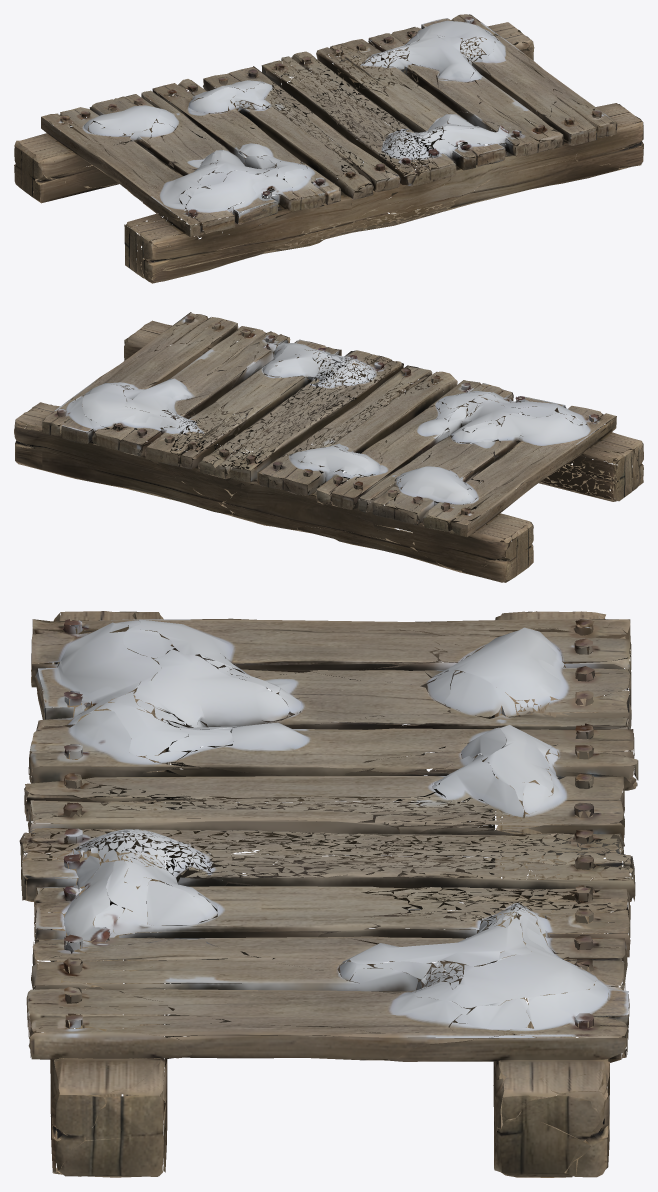
File: PlankBridge.fbx
3 views of the same model, one above another, from view 1: azimuth 30°, elevation 25°; view 2: azimuth 150°, elevation 25°; view 3: azimuth 270°, elevation 25° (orthographic). The views are drawn at different scales.
Parts seen in each view (by area): view 1: PlankBridge; view 2: PlankBridge; view 3: PlankBridge.
Boxes of the visible parts, box(x1,y1,x2,y2) form: PlankBridge: box(14, 14, 643, 283); PlankBridge: box(14, 312, 643, 582); PlankBridge: box(19, 611, 638, 1177).
Bounding box in the file's own units: 219 × 30.19 × 118.
1 material, 1 textured.
